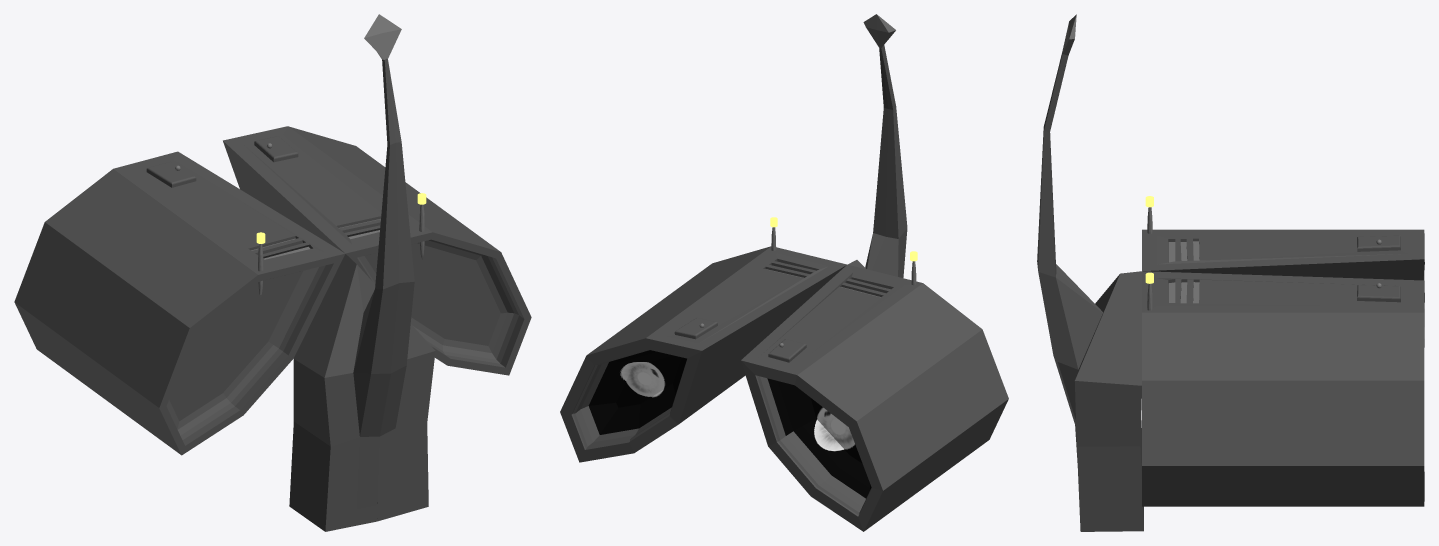
Rendered from Scrap10.fbx.
3 views of the same model, side by side, from view 1: azimuth 30°, elevation 25°; view 2: azimuth 150°, elevation 25°; view 3: azimuth 270°, elevation 25° (orthographic). The views are drawn at different scales.
Visible parts, largest first — view 1: Head; view 2: Head; view 3: Head.
Part boxes in pixels (x1,y1,x2,y2): Head: (14,14,531,531); Head: (560,14,1008,531); Head: (1037,14,1424,531).
Size of the model in its own units: 296 by 387 by 275.
